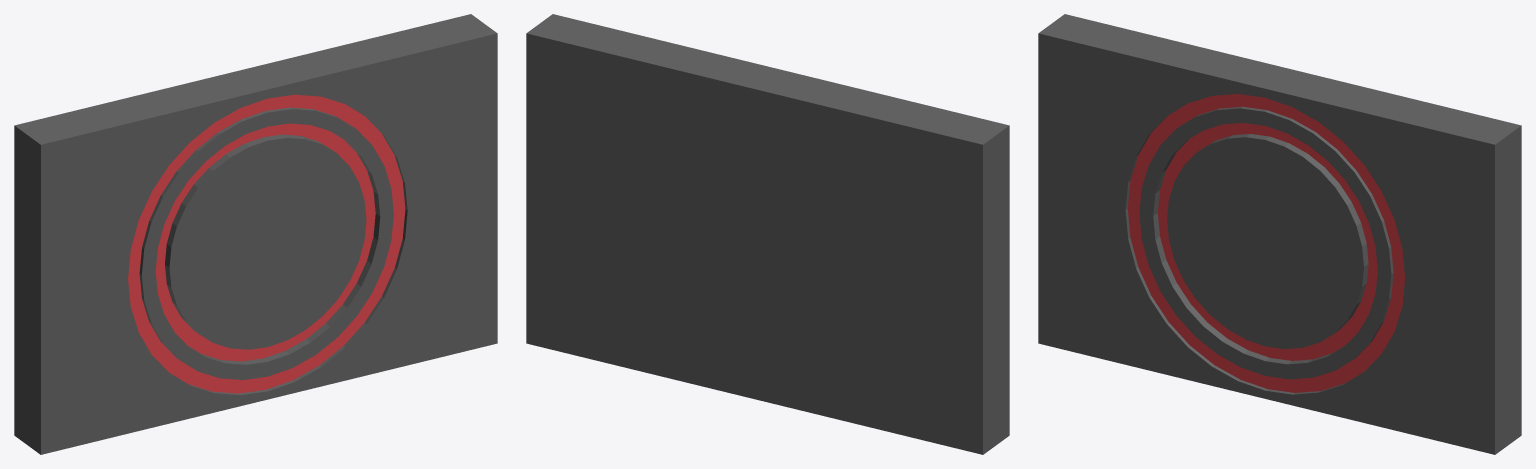
The model's file is Door.fbx.
3 views of the same model, side by side, from view 1: azimuth 30°, elevation 25°; view 2: azimuth 150°, elevation 25°; view 3: azimuth 330°, elevation 25° (orthographic).
Parts seen in each view (by area): view 1: Cube.022, Cube.021; view 2: Cube.022, Cube.021; view 3: Cube.021, Cube.022.
Part boxes in pixels (bbox=[...]): Cube.022: bbox=[14, 78, 302, 454]; Cube.021: bbox=[207, 14, 497, 390]; Cube.022: bbox=[721, 78, 1009, 454]; Cube.021: bbox=[526, 14, 816, 390]; Cube.021: bbox=[1231, 61, 1521, 454]; Cube.022: bbox=[1038, 14, 1304, 407].
Size of the model in its own units: 19.91 by 12.92 by 2.
